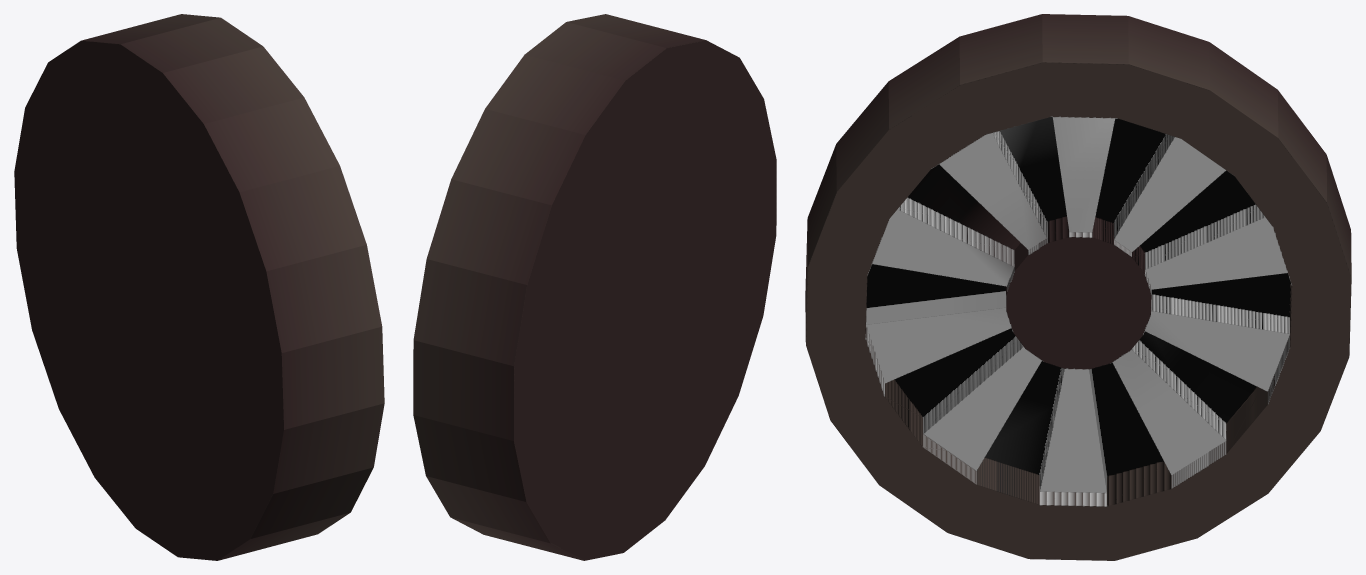
Rendered from wheel.fbx.
3 renders of one model, left to right at view 1: azimuth 30°, elevation 25°; view 2: azimuth 150°, elevation 25°; view 3: azimuth 270°, elevation 25°, orthographic. The views are drawn at different scales.
Parts seen in each view (by area): view 1: wheel; view 2: wheel; view 3: wheel.
Boxes of the visible parts, x1=… form: wheel: x1=14, y1=14, x2=384, y2=560; wheel: x1=413, y1=14, x2=776, y2=560; wheel: x1=805, y1=14, x2=1351, y2=560.
Bounding box in the file's own units: 46.95 × 199 × 198.
1 material, 1 textured.
